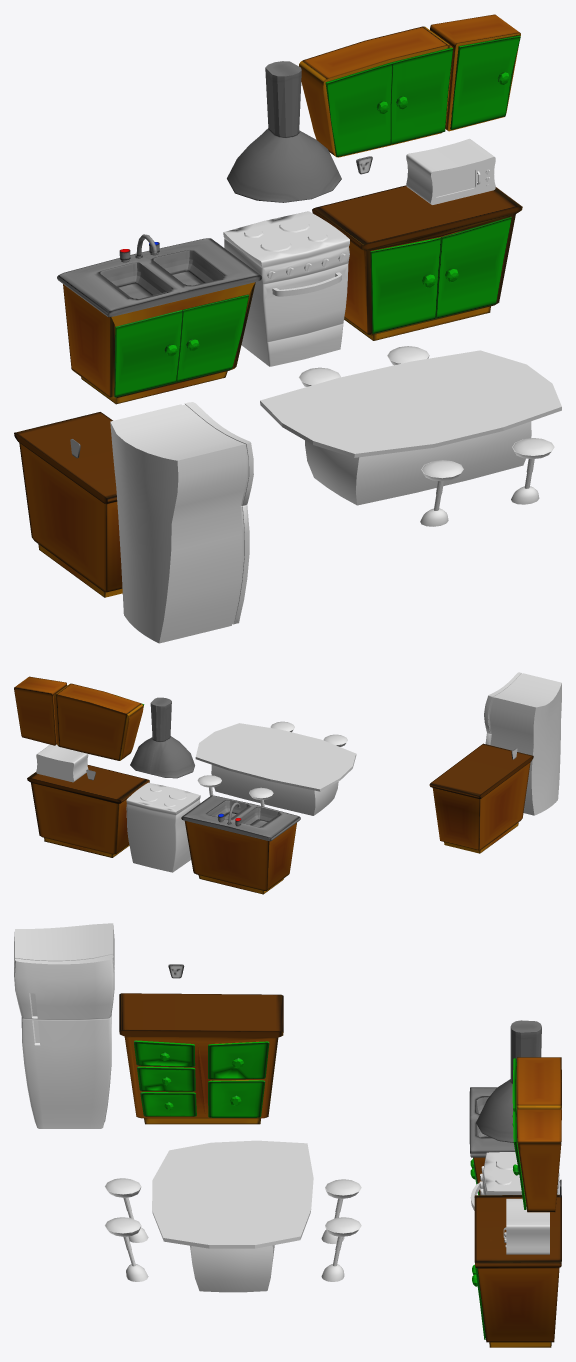
Rendered from KitchenProps.fbx.
3 renders of one model, top to bottom at view 1: azimuth 30°, elevation 25°; view 2: azimuth 150°, elevation 25°; view 3: azimuth 270°, elevation 25°, orthographic. The views are drawn at different scales.
Visible parts, largest first — view 1: KitchenTable, Fridge, PantryWithDishwasher, Kitchen, PantryWithDrawer, PantryWithDoors, CookerHoodAndPowerPlugs, UpperPantry, FloorPantryCommonLeftDoor, FloorPantryCommonRightDoor, DoublePantryRoofLeftDoor, DoublePantryRoofRightDoor (+6 smaller); view 2: KitchenTable, PantryWithDishwasher, PantryWithDrawer, UpperPantry, PantryWithDoors, Fridge, Kitchen, CookerHoodAndPowerPlugs, Microwave; view 3: KitchenTable, Fridge, PantryWithDrawer, PantryWithDoors, UpperPantry, CookerHoodAndPowerPlugs, UpperDrawerFloorPantry, Microwave, LowerDrawerFloorPantry, Kitchen, PantryWithDishwasher, FloorPantryFirstDrawer (+6 smaller).
Part boxes in pixels (<box>): KitchenTable: <box>260,350,561,505</box>; Fridge: <box>110,402,253,643</box>; PantryWithDishwasher: <box>57,234,261,404</box>; Kitchen: <box>223,211,349,366</box>; PantryWithDrawer: <box>14,412,122,597</box>; PantryWithDoors: <box>312,185,522,340</box>; CookerHoodAndPowerPlugs: <box>227,61,341,202</box>; UpperPantry: <box>299,14,520,157</box>; FloorPantryCommonLeftDoor: <box>370,237,441,333</box>; FloorPantryCommonRightDoor: <box>435,217,511,318</box>; DoublePantryRoofLeftDoor: <box>325,62,392,157</box>; DoublePantryRoofRightDoor: <box>391,47,453,144</box>; KitchenTable: <box>195,723,356,815</box>; PantryWithDishwasher: <box>181,795,300,894</box>; PantryWithDrawer: <box>429,743,533,853</box>; UpperPantry: <box>14,676,143,760</box>; PantryWithDoors: <box>27,765,149,857</box>; Fridge: <box>484,672,561,815</box>; Kitchen: <box>126,782,200,872</box>; CookerHoodAndPowerPlugs: <box>130,697,194,778</box>; Microwave: <box>36,744,88,782</box>; KitchenTable: <box>152,1140,313,1292</box>; Fridge: <box>14,923,114,1128</box>; PantryWithDrawer: <box>119,993,283,1124</box>; PantryWithDoors: <box>474,1194,561,1347</box>; UpperPantry: <box>516,1057,561,1212</box>; CookerHoodAndPowerPlugs: <box>476,1020,541,1142</box>; UpperDrawerFloorPantry: <box>208,1041,269,1079</box>; Microwave: <box>503,1198,549,1254</box>; LowerDrawerFloorPantry: <box>208,1080,265,1117</box>; Kitchen: <box>470,1152,559,1210</box>; PantryWithDishwasher: <box>469,1087,515,1194</box>; FloorPantryFirstDrawer: <box>134,1040,195,1066</box>.
Bounding box in the file's own units: 133 × 53.91 × 111.
